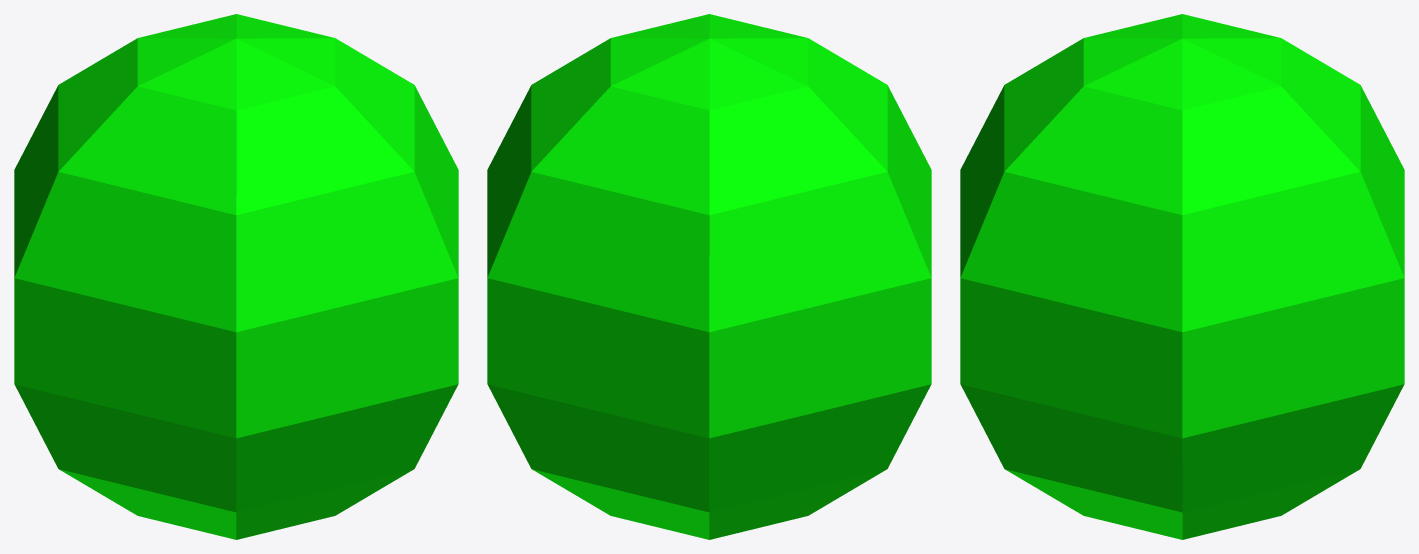
Rendered from engineer_v7.dae.
The picture shows the model from 3 angles, left to right: view 1: azimuth 30°, elevation 25°; view 2: azimuth 150°, elevation 25°; view 3: azimuth 270°, elevation 25°; orthographic projection.
Parts seen in each view (by area): view 1: tcp_link; view 2: tcp_link; view 3: tcp_link.
Boxes of the visible parts, x1,y1,x2,y2 form: tcp_link: [14, 14, 458, 539]; tcp_link: [487, 14, 931, 539]; tcp_link: [960, 14, 1404, 539].
Bounding box in the file's own units: 0.00975 × 0.00844 × 0.01.
